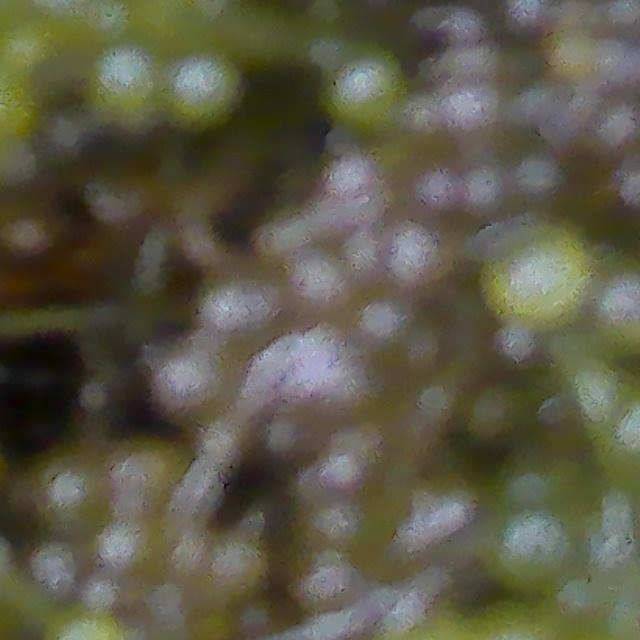SeaGrape: (491, 220, 599, 331), (94, 46, 162, 127), (165, 58, 242, 125), (333, 57, 406, 124), (35, 456, 102, 528), (391, 217, 456, 291), (205, 276, 270, 339), (158, 354, 221, 410), (326, 151, 381, 213), (293, 248, 344, 308)
